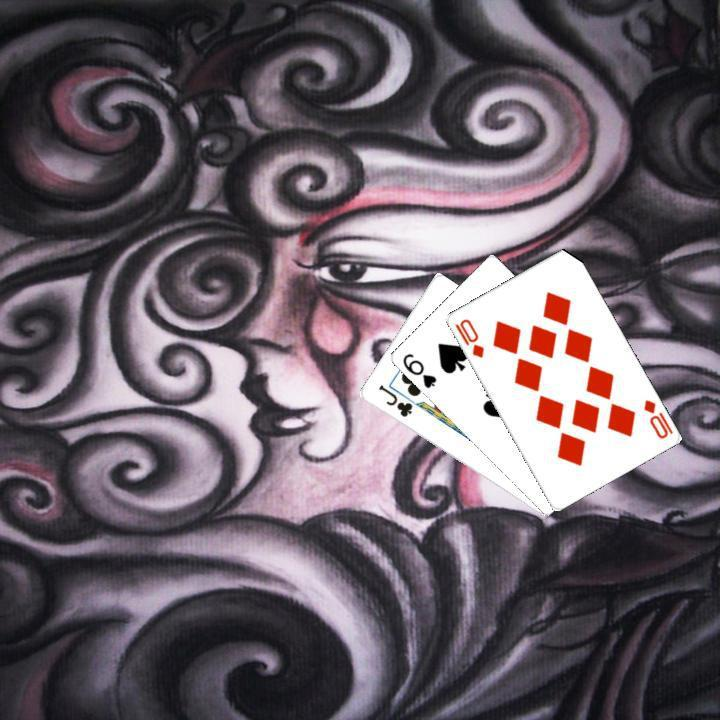10: (450, 314, 486, 360), (639, 395, 675, 441)
6: (398, 349, 438, 390)
J: (373, 380, 414, 419)
